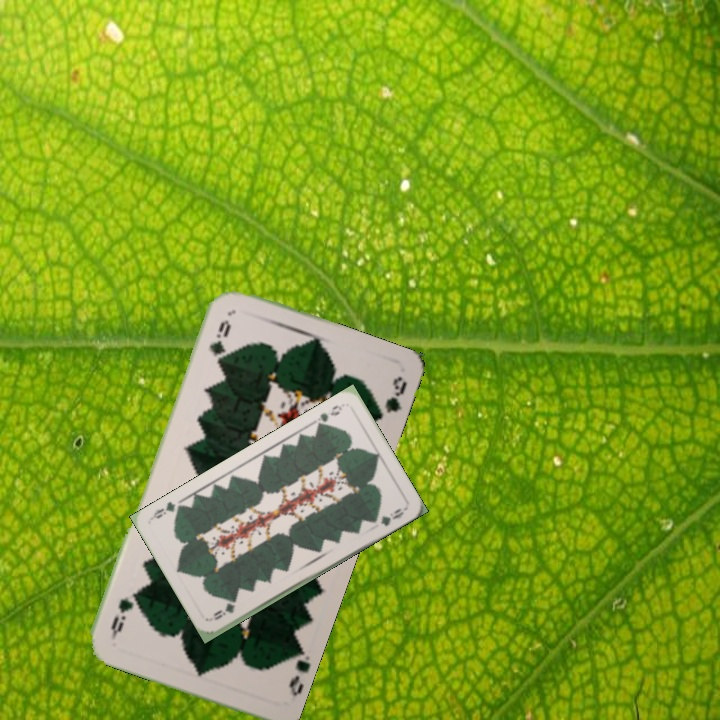G9: (283, 643, 313, 700), (205, 316, 233, 366), (310, 401, 345, 431), (210, 600, 238, 623)
